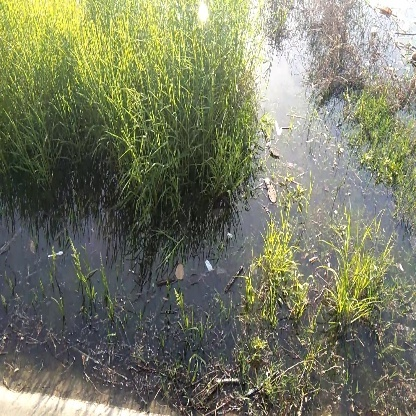grass: (323, 246, 397, 327)
